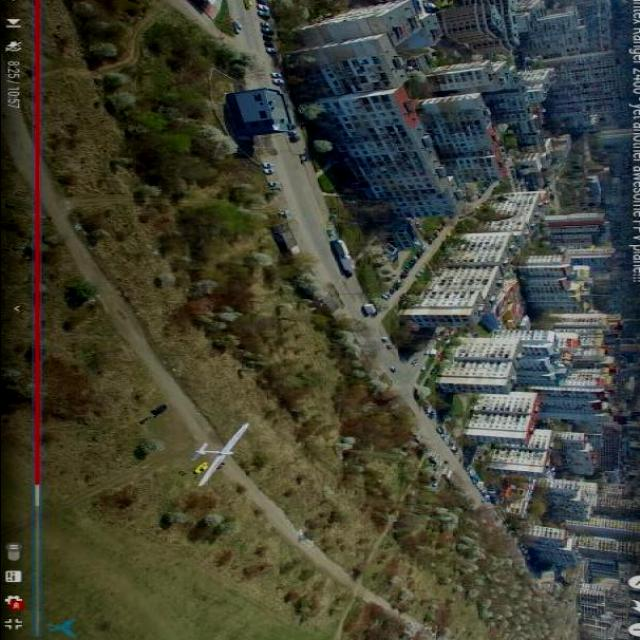plane: (188, 421, 250, 486)
